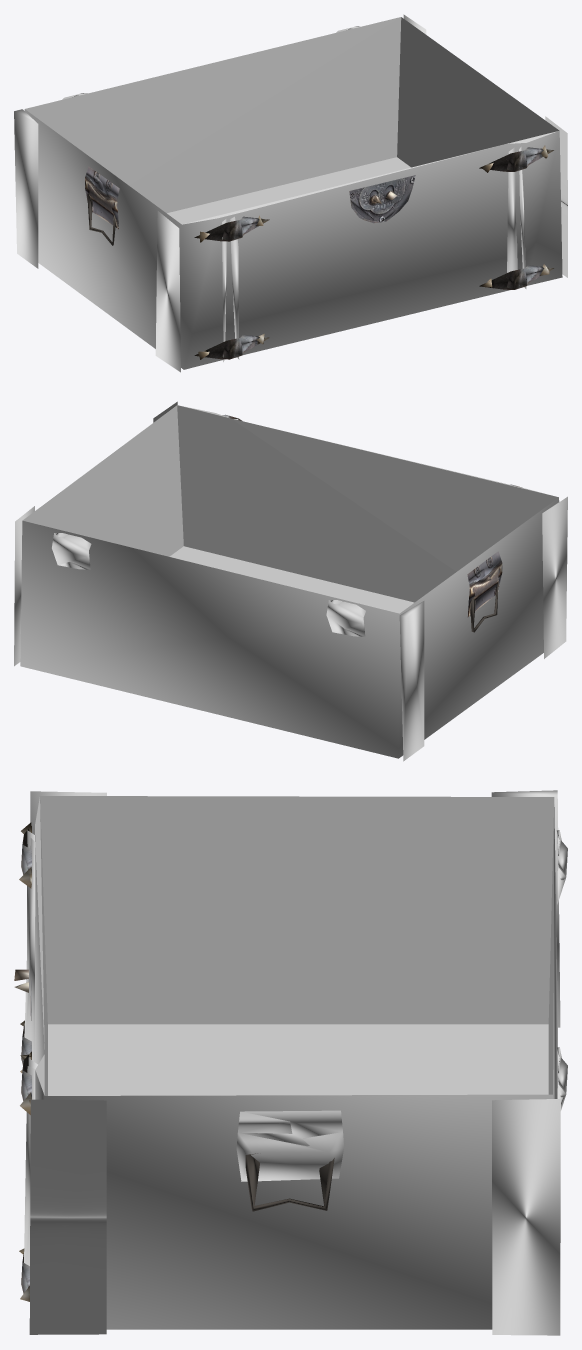
3 views of the same model, one above another, from view 1: azimuth 30°, elevation 25°; view 2: azimuth 150°, elevation 25°; view 3: azimuth 270°, elevation 25° (orthographic). The views are drawn at different scales.
Visible parts, largest first — view 1: Box; view 2: Box; view 3: Box.
Part boxes in pixels (left/top/right/bottom): Box: left=14, top=14, right=567, bottom=372; Box: left=14, top=401, right=567, bottom=761; Box: left=14, top=790, right=567, bottom=1335.
Size of the model in its own units: 31.94 by 11.3 by 24.
Materials: 3 (1 with a texture image).
